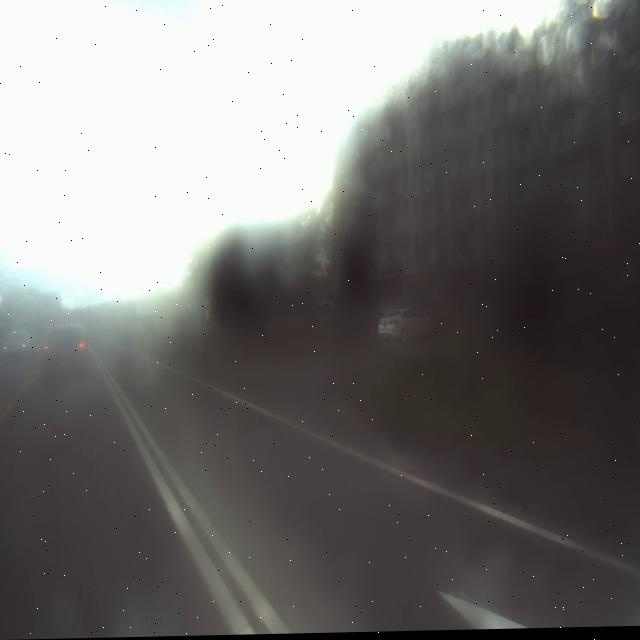car: (40, 316, 100, 389)
